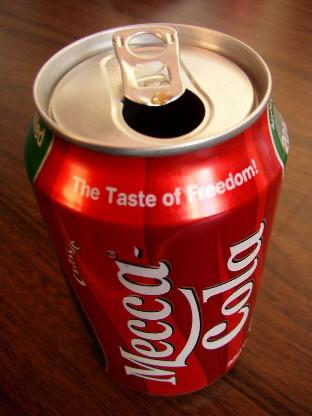Can: (20, 13, 296, 400)
